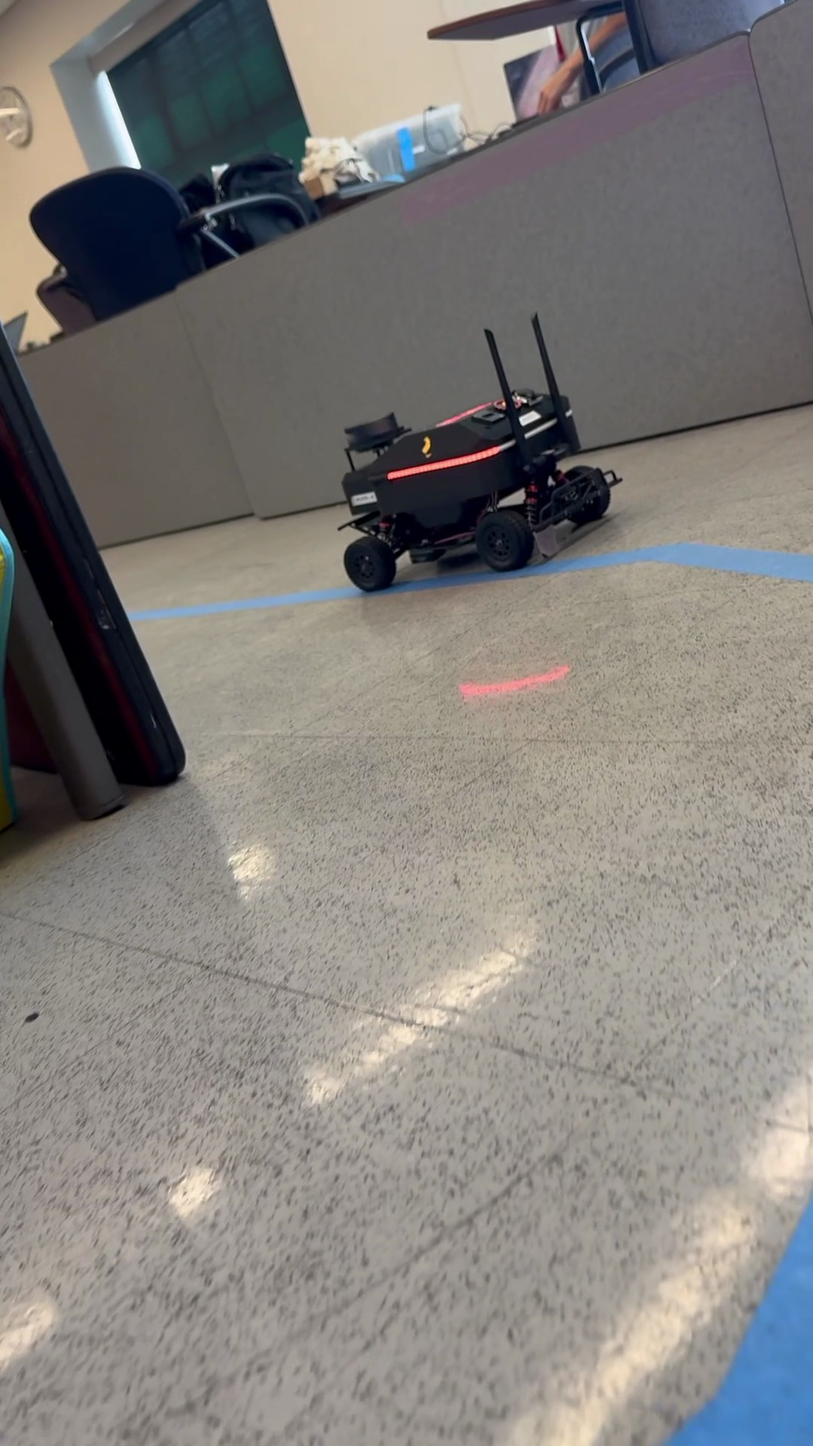racecar: (335, 312, 621, 594)
